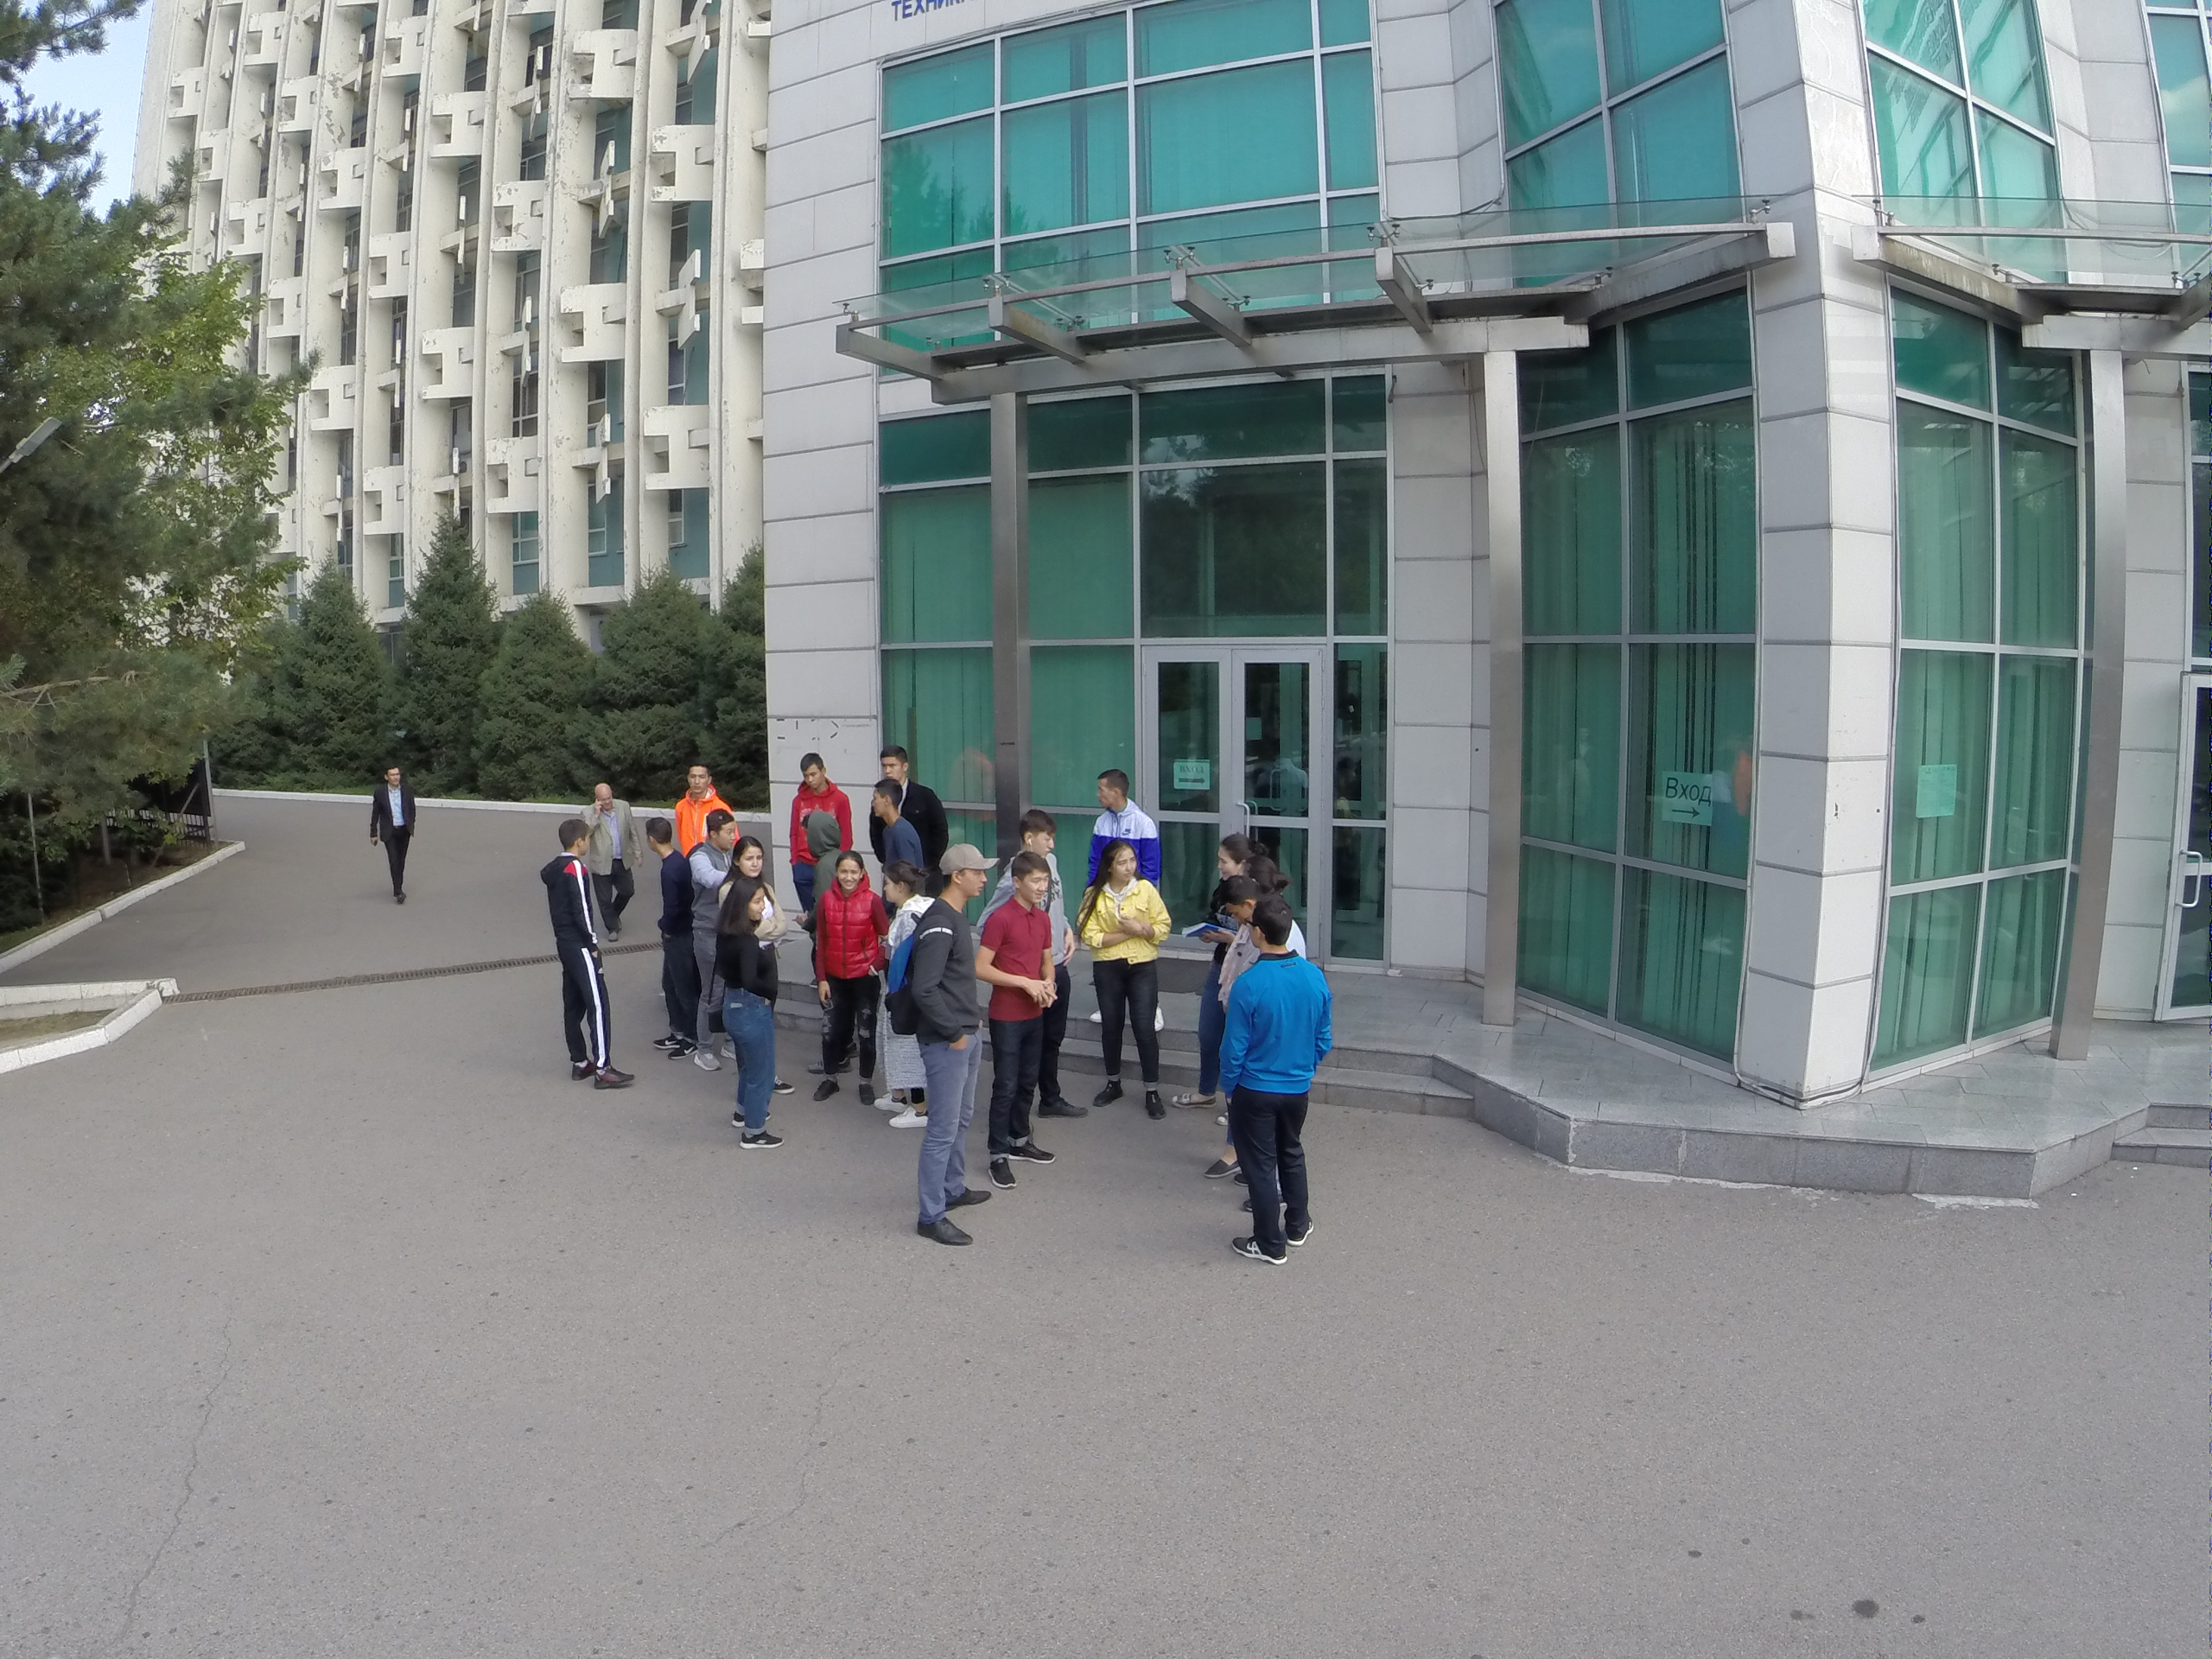person: (910, 846, 992, 1256), (1248, 904, 1327, 1272), (528, 831, 632, 1093), (986, 858, 1058, 1192), (1083, 843, 1172, 1117), (703, 889, 791, 1154), (639, 820, 705, 1065), (821, 858, 886, 1105), (684, 810, 744, 1060), (579, 785, 645, 944), (1078, 766, 1162, 863), (370, 762, 418, 908), (866, 782, 927, 882), (785, 753, 847, 817), (670, 762, 727, 832), (728, 835, 772, 893), (1210, 835, 1264, 880), (874, 745, 915, 786)
